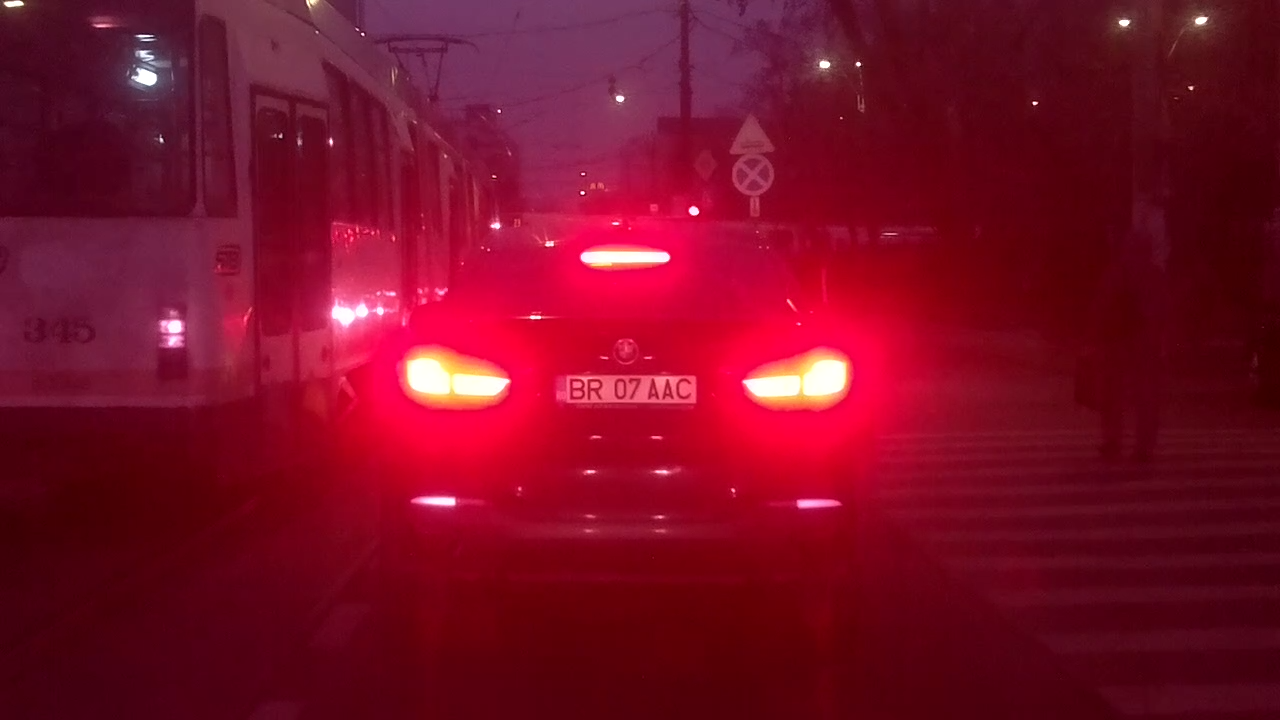license-plate: (552, 371, 701, 408)
